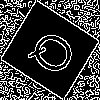Q: (25, 25, 87, 85)
